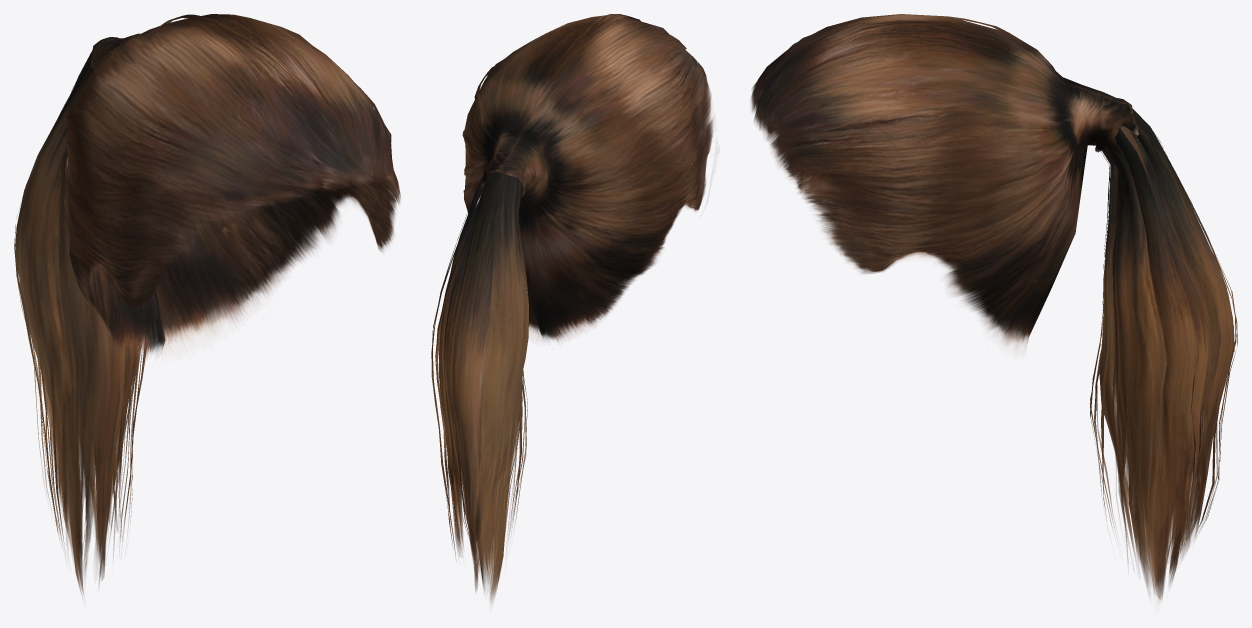
File: hair-male-ponytail01.glb
3 renders of one model, left to right at view 1: azimuth 30°, elevation 25°; view 2: azimuth 150°, elevation 25°; view 3: azimuth 270°, elevation 25°, orthographic. The views are drawn at different scales.
Parts seen in each view (by area): view 1: ponytail01; view 2: ponytail01; view 3: ponytail01.
Boxes of the visible parts, bbox=[...] form: ponytail01: bbox=[14, 14, 400, 597]; ponytail01: bbox=[431, 14, 713, 603]; ponytail01: bbox=[750, 14, 1237, 600].
Size of the model in its own units: 0.3019 by 0.7419 by 0.5525.
Materials: 1 (1 with a texture image).
